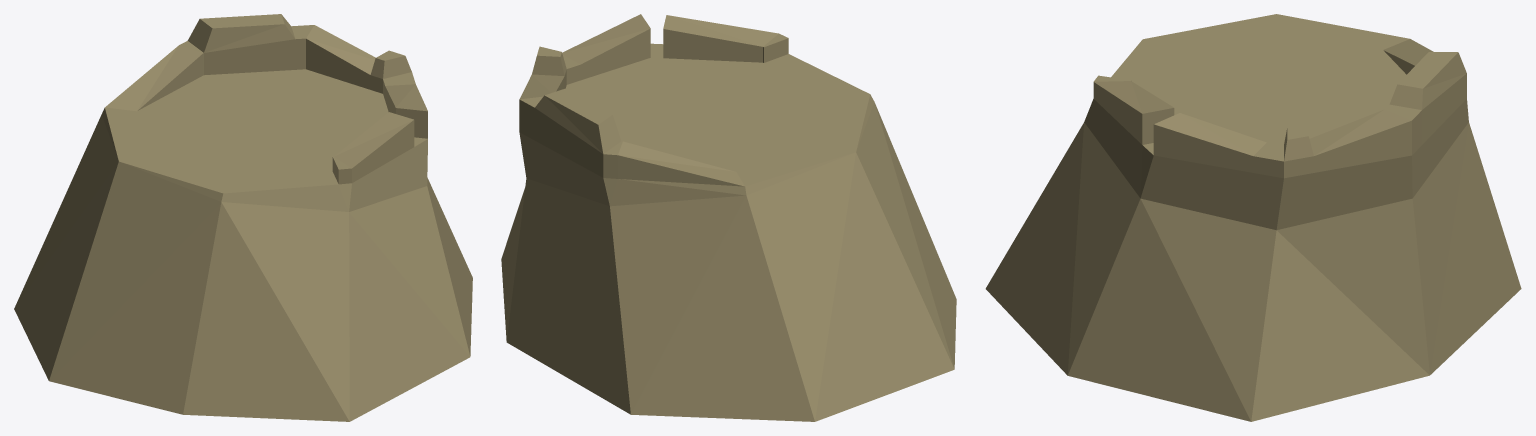
File: PineStump.fbx
3 renders of one model, left to right at view 1: azimuth 30°, elevation 25°; view 2: azimuth 150°, elevation 25°; view 3: azimuth 270°, elevation 25°, orthographic. The views are drawn at different scales.
Visible parts, largest first — view 1: Pine1_2_Stump_001; view 2: Pine1_2_Stump_001; view 3: Pine1_2_Stump_001.
Boxes of the visible parts, x1=… form: Pine1_2_Stump_001: x1=14, y1=14, x2=472, y2=421; Pine1_2_Stump_001: x1=501, y1=14, x2=956, y2=421; Pine1_2_Stump_001: x1=985, y1=14, x2=1521, y2=421.
Size of the model in its own units: 123 by 65.51 by 118.
